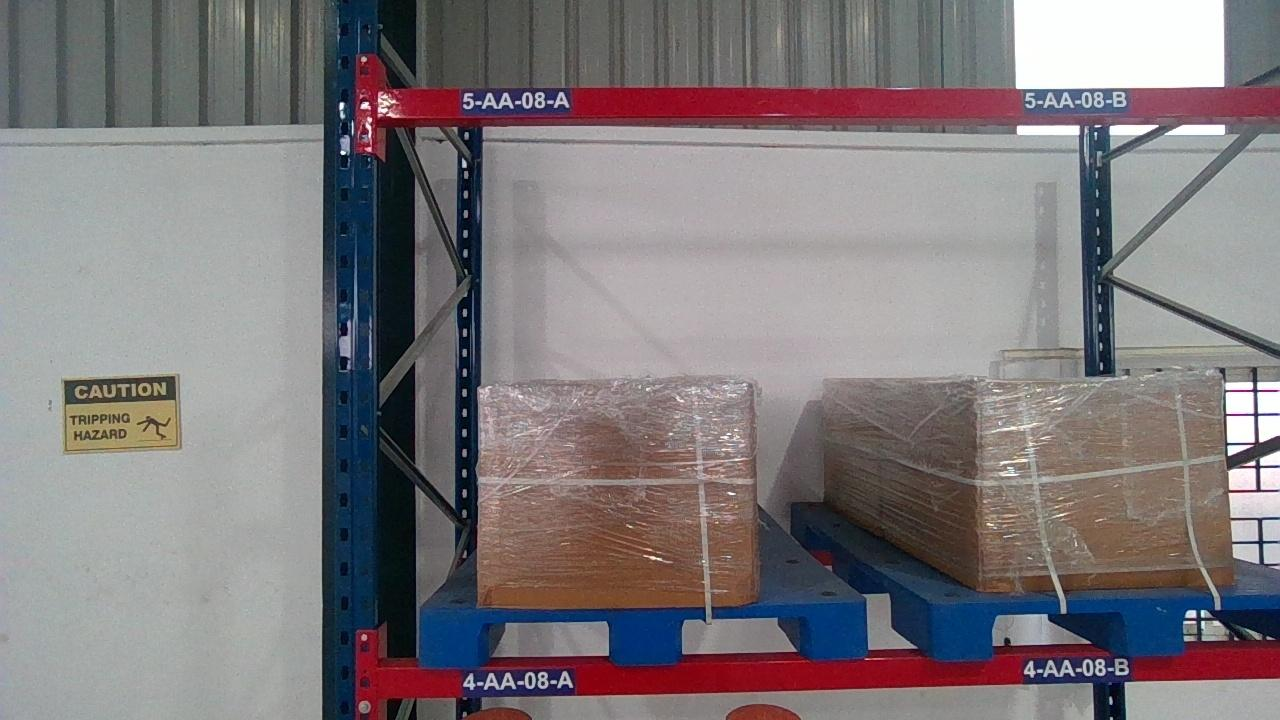h_rack: (380, 647, 1278, 697), (377, 86, 1277, 118)
small_pallet: (412, 602, 869, 661), (932, 597, 1278, 653)
